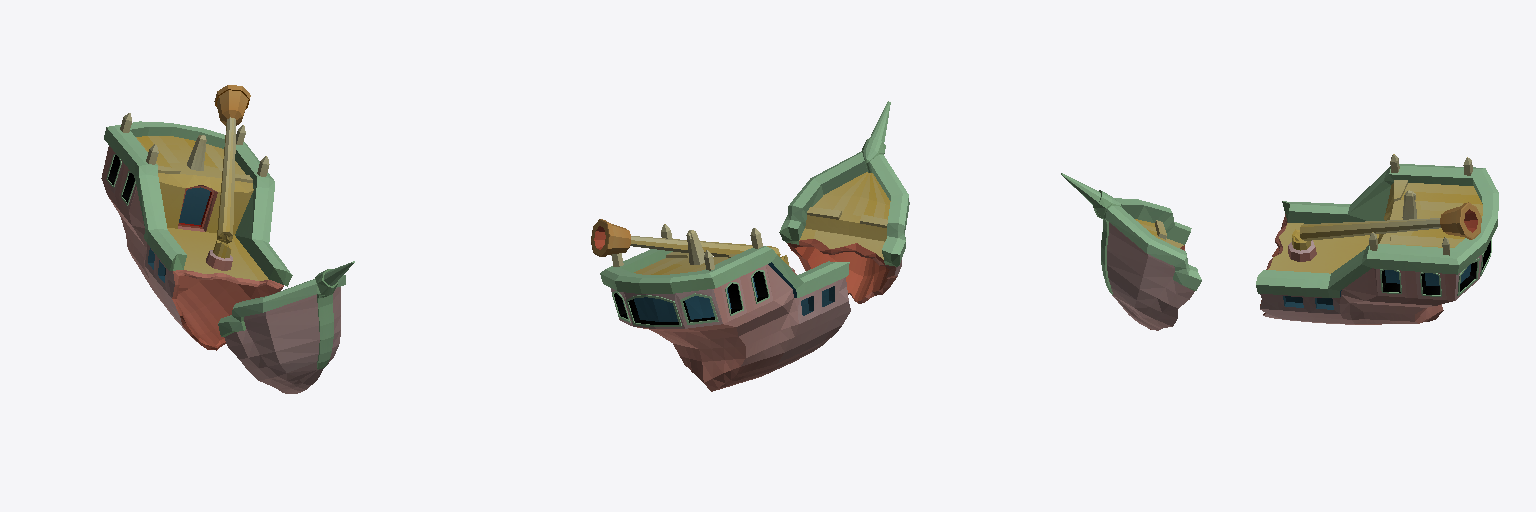
3 views of the same model, side by side, from view 1: azimuth 30°, elevation 25°; view 2: azimuth 150°, elevation 25°; view 3: azimuth 270°, elevation 25° (orthographic).
Parts seen in each view (by area): view 1: crashed_ship; view 2: crashed_ship; view 3: crashed_ship.
Boxes of the visible parts, box(x1,y1,x2,y2) form: crashed_ship: box(101, 85, 354, 393); crashed_ship: box(591, 101, 909, 391); crashed_ship: box(1061, 154, 1498, 330).
Size of the model in its own units: 12.81 by 12.39 by 28.62.
Materials: 1 (1 with a texture image).